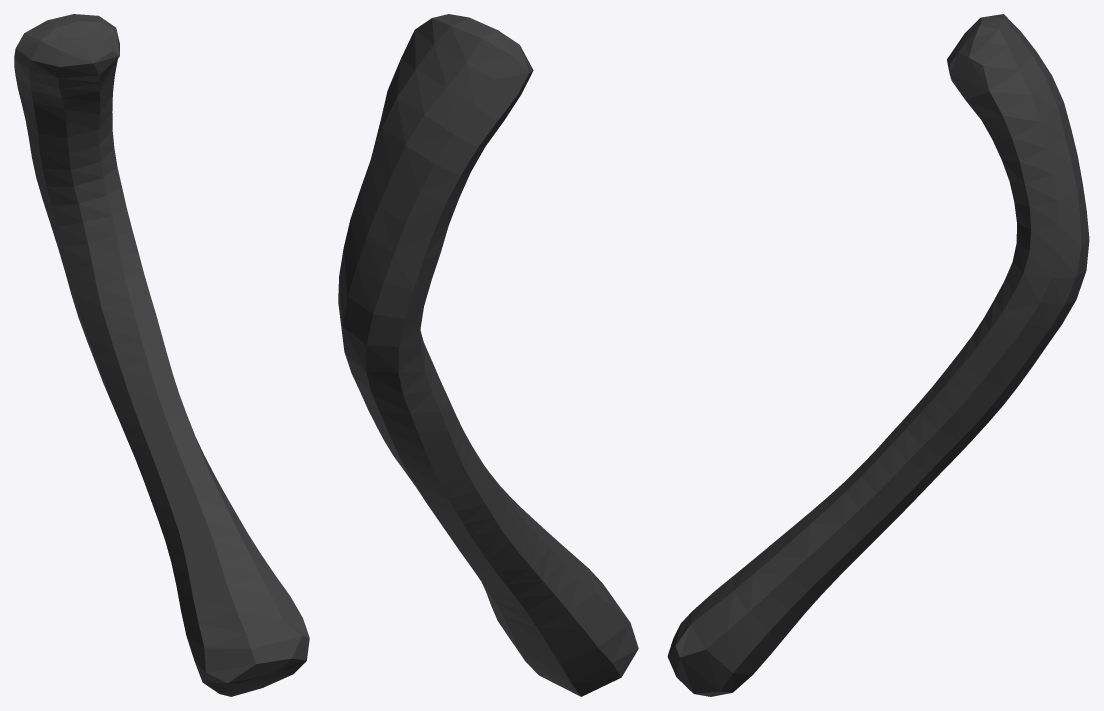
Rendered from Cran_cruc_lig.glb.
3 views of the same model, side by side, from view 1: azimuth 30°, elevation 25°; view 2: azimuth 150°, elevation 25°; view 3: azimuth 270°, elevation 25° (orthographic). The views are drawn at different scales.
Parts seen in each view (by area): view 1: Cran_cruc_lig; view 2: Cran_cruc_lig; view 3: Cran_cruc_lig.
Boxes of the visible parts, box(x1,y1,x2,y2) form: Cran_cruc_lig: box(14, 14, 309, 696); Cran_cruc_lig: box(338, 14, 638, 696); Cran_cruc_lig: box(667, 14, 1089, 696).
Size of the model in its own units: 16.07 by 60.26 by 35.82.
Materials: 1 (1 with a texture image).
